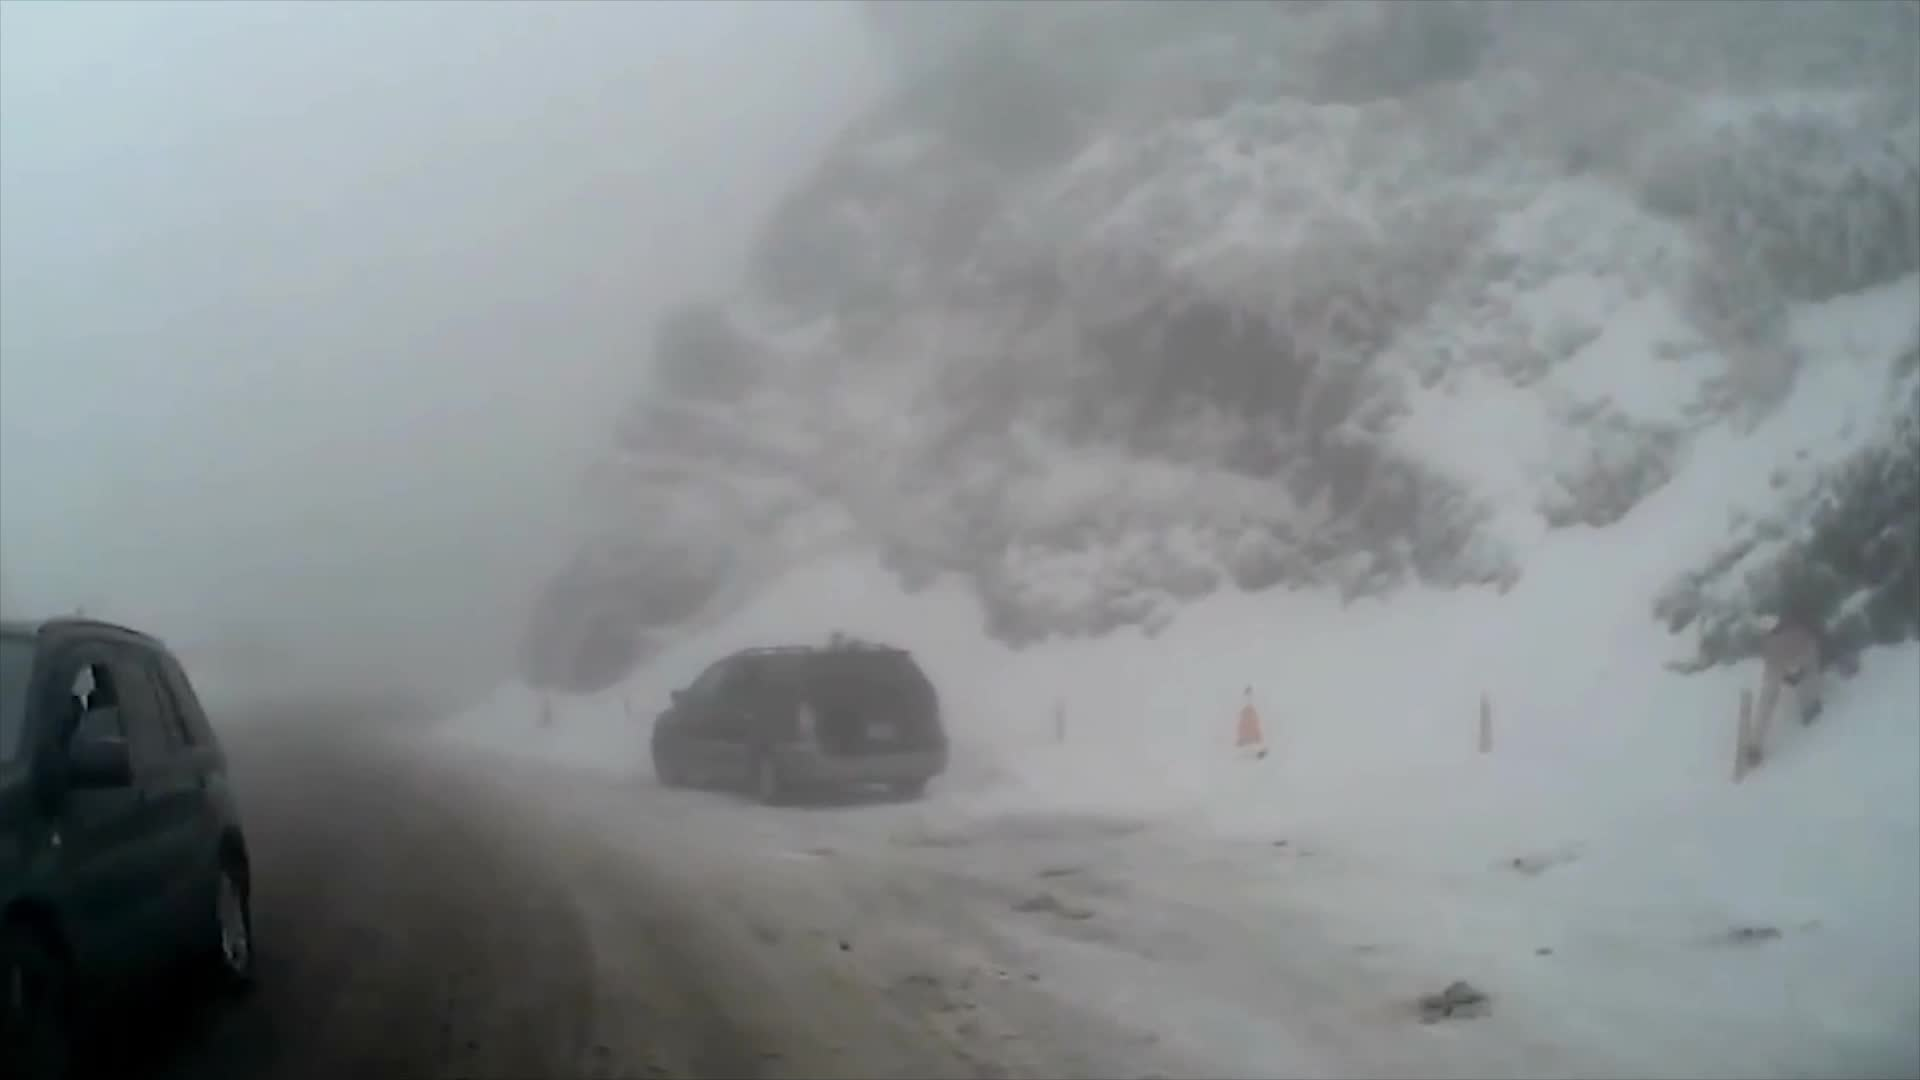vehicle: (0, 611, 257, 1080), (650, 644, 948, 803)
